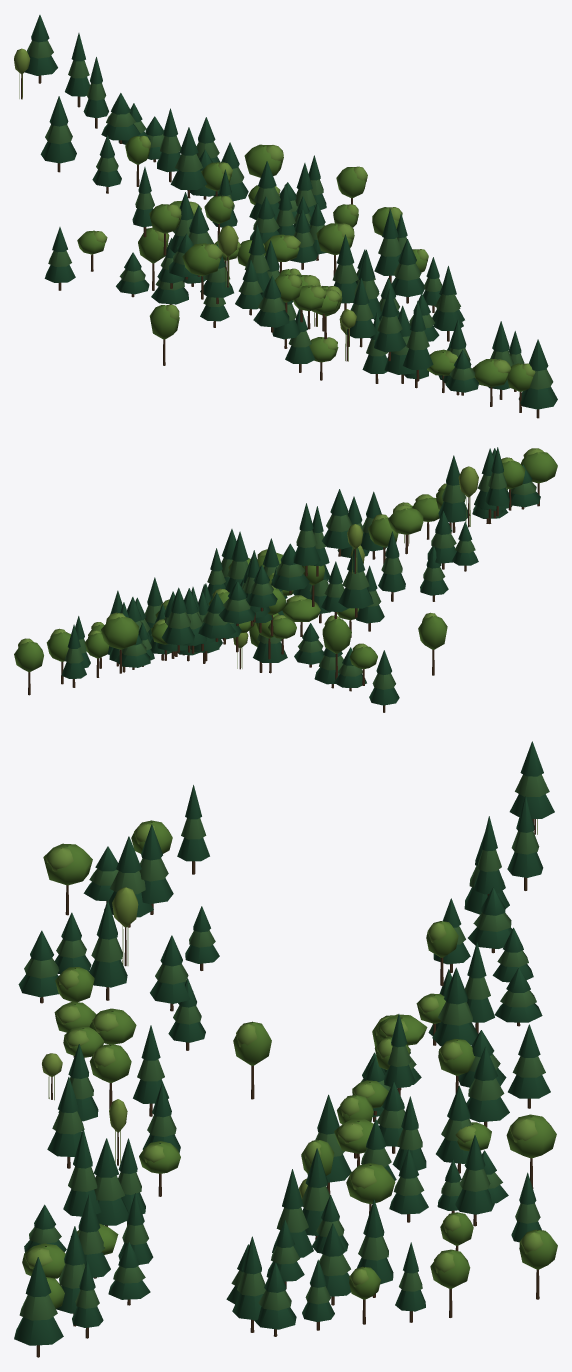
The model's file is forest_2_4.dae.
The picture shows the model from 3 angles, top to bottom: view 1: azimuth 30°, elevation 25°; view 2: azimuth 150°, elevation 25°; view 3: azimuth 270°, elevation 25°; orthographic projection. The views are drawn at different scales.
Parts seen in each view (by area): view 1: forest_2_4; view 2: forest_2_4; view 3: forest_2_4.
Part boxes in pixels (x1,y1,x2,y2): forest_2_4: [14, 15, 557, 418]; forest_2_4: [14, 447, 557, 712]; forest_2_4: [14, 741, 557, 1357].
Bounding box in the file's own units: 134 × 134 × 116.
